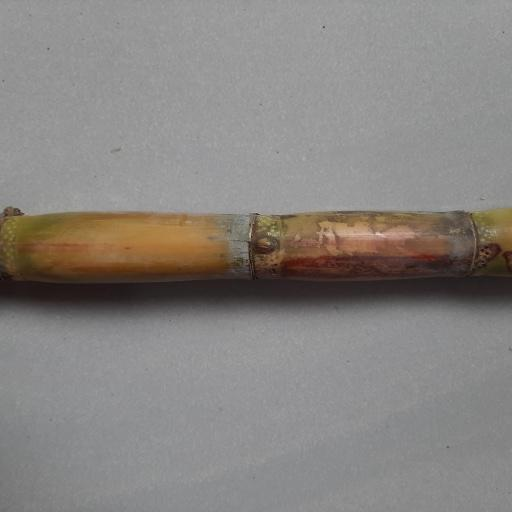Bud: (251, 235, 280, 255)
